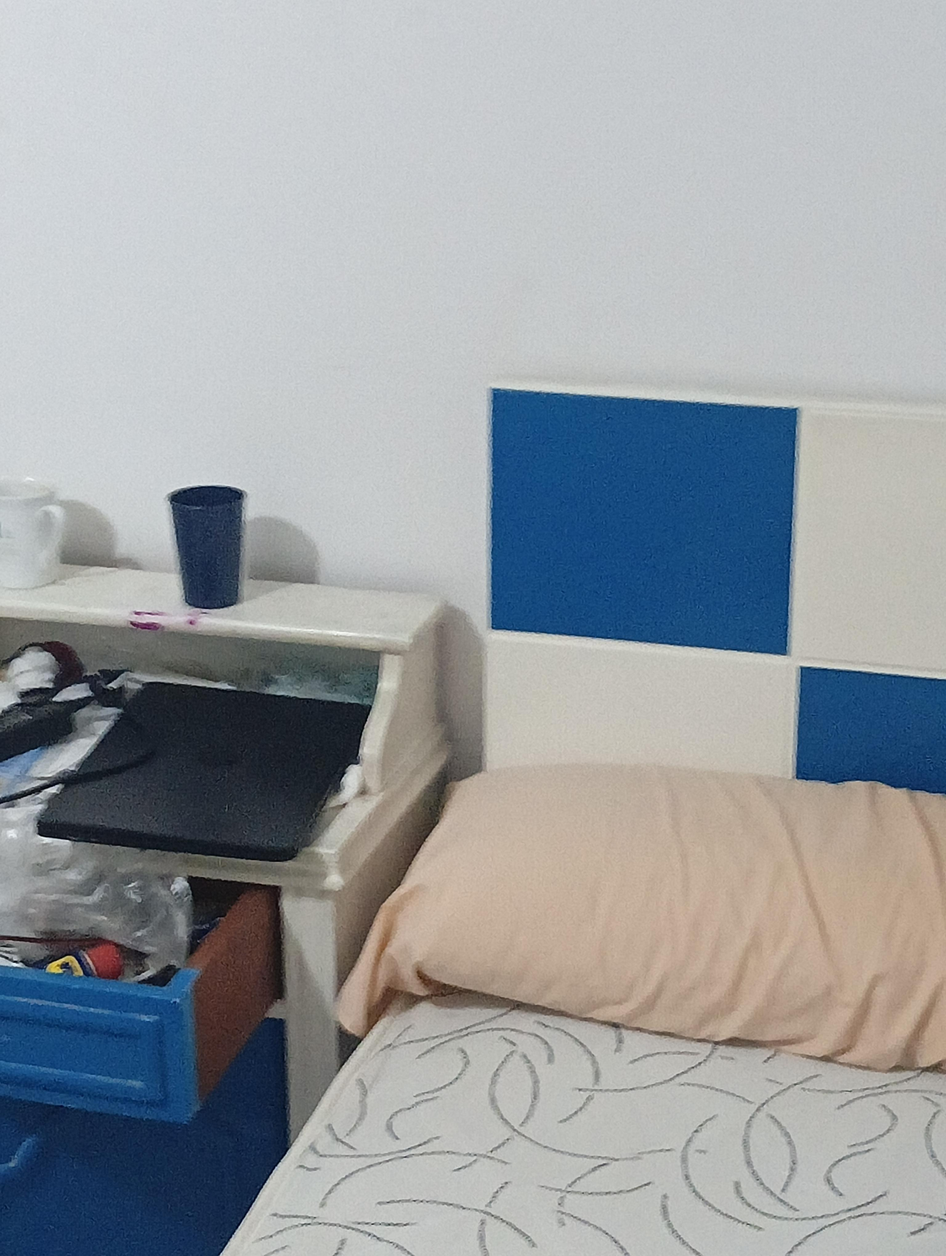cup: (168, 486, 245, 609), (0, 478, 64, 588)
